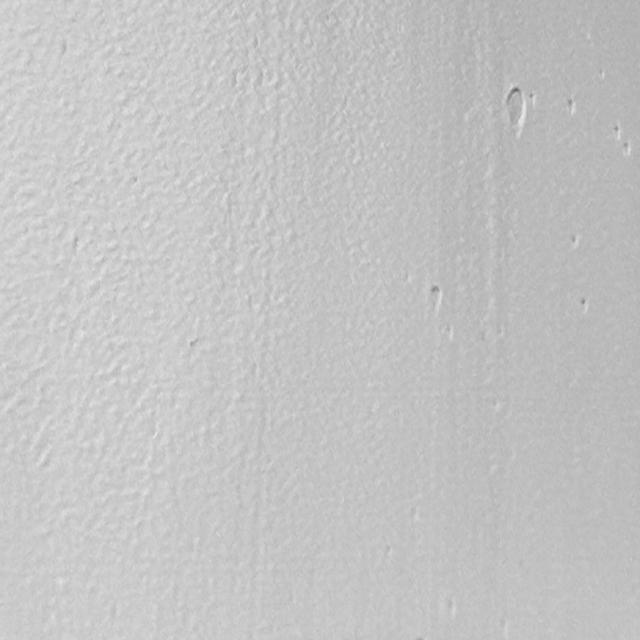pin holes: (499, 82, 532, 144), (425, 283, 444, 311), (440, 597, 460, 622), (575, 293, 593, 316), (382, 541, 399, 564), (186, 336, 203, 356), (569, 231, 583, 251), (566, 96, 579, 115), (620, 140, 634, 157), (525, 90, 537, 109), (596, 66, 608, 82), (613, 124, 624, 140)
